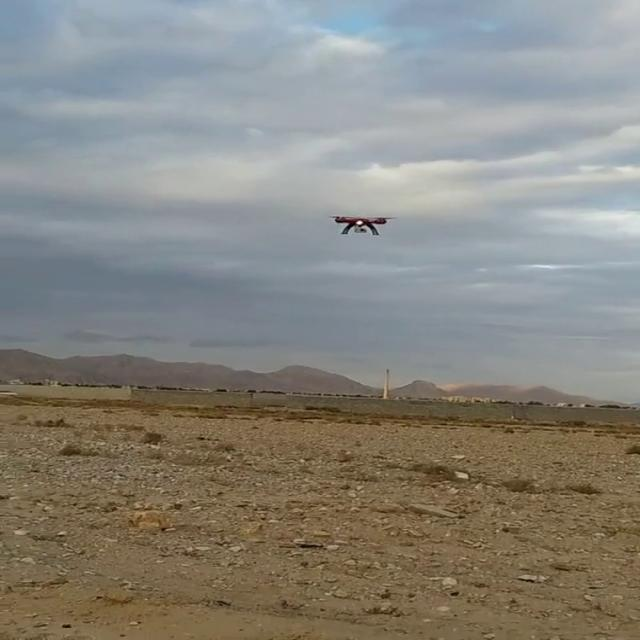drone: (322, 214, 398, 237)
